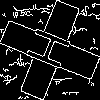H: (25, 25, 81, 76)
